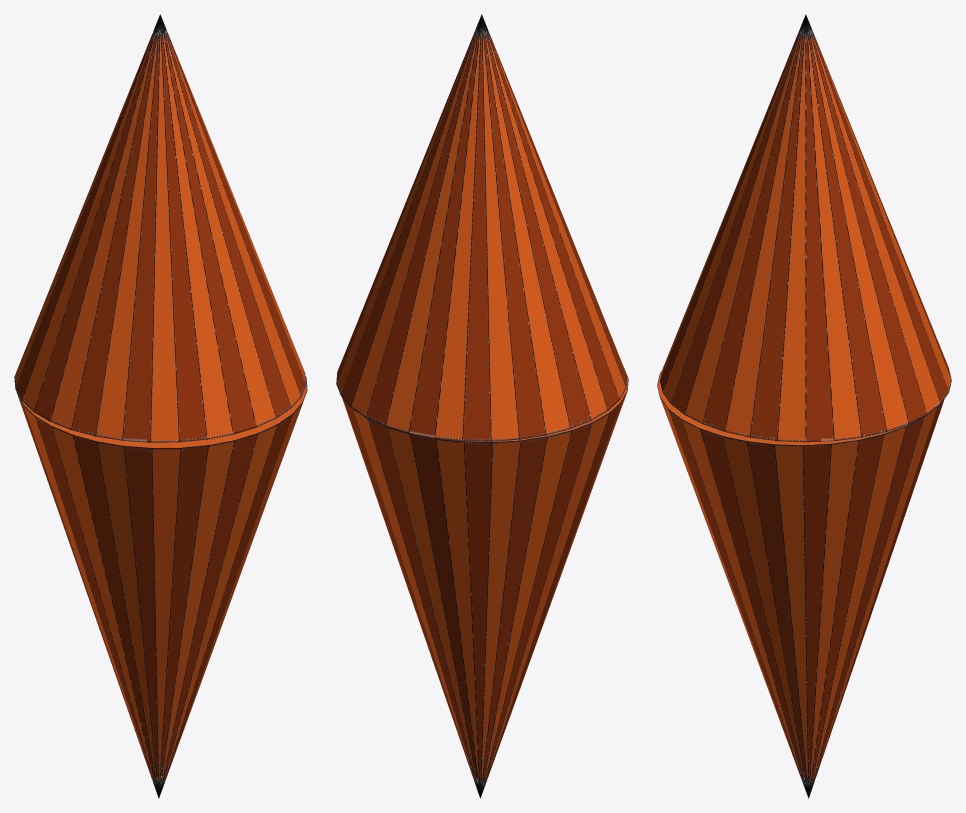
The model's file is tamasi.obj.
The picture shows the model from 3 angles, left to right: view 1: azimuth 30°, elevation 25°; view 2: azimuth 150°, elevation 25°; view 3: azimuth 270°, elevation 25°; orthographic projection.
Visible parts, largest first — view 1: 円錐.001; view 2: 円錐.001; view 3: 円錐.001.
Part boxes in pixels (x1,y1,x2,y2): 円錐.001: (14,14,307,798); 円錐.001: (336,14,628,798); 円錐.001: (657,14,951,798).
Size of the model in its own units: 1.29 by 3.82 by 1.3.
Materials: 1 (1 with a texture image).
